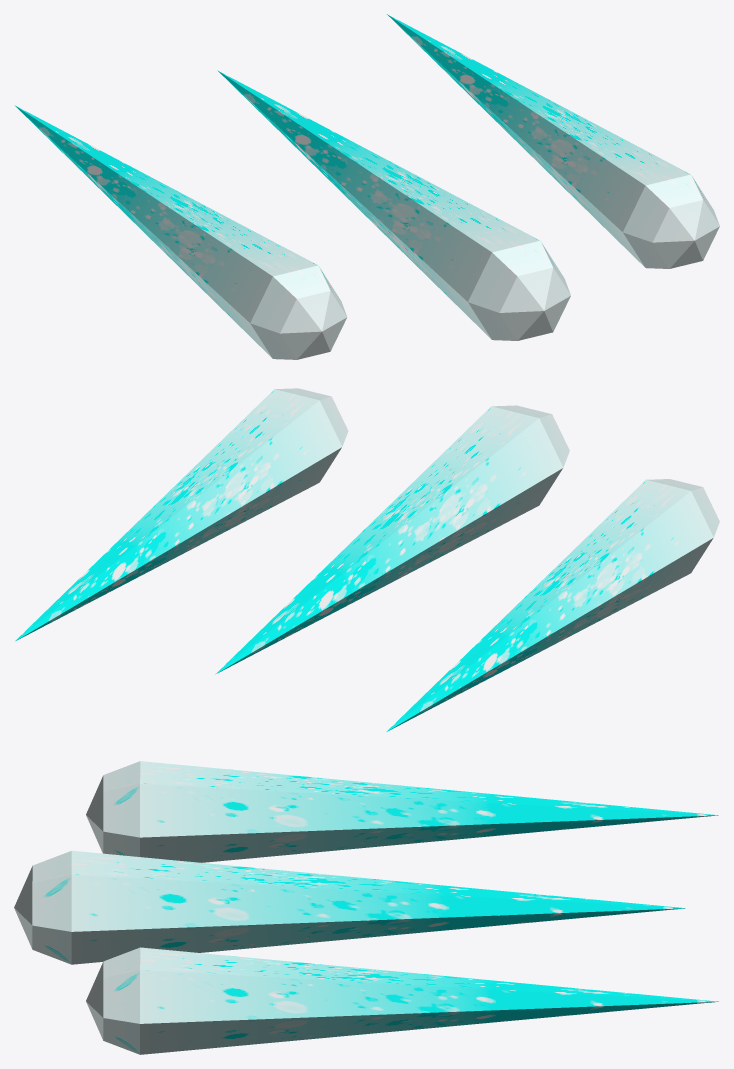
Rendered from laser3.obj.
The picture shows the model from 3 angles, top to bottom: view 1: azimuth 30°, elevation 25°; view 2: azimuth 150°, elevation 25°; view 3: azimuth 270°, elevation 25°; orthographic projection. The views are drawn at different scales.
Visible parts, largest first — view 1: Cone_Cone.001; view 2: Cone_Cone.001; view 3: Cone_Cone.001.
Boxes of the visible parts, box(x1,y1,x2,y2) form: Cone_Cone.001: box(15, 14, 719, 359); Cone_Cone.001: box(15, 388, 719, 731); Cone_Cone.001: box(14, 761, 718, 1054).
Size of the model in its own units: 2.81 by 0.5083 by 3.62.
